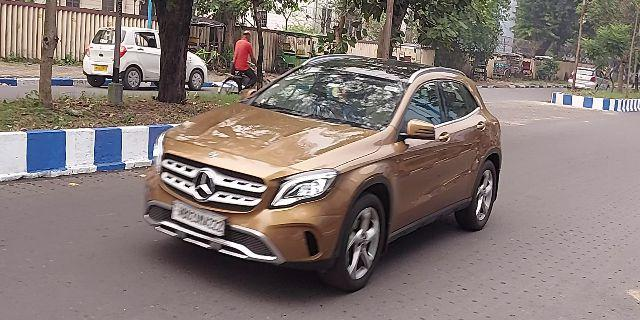Car: (152, 53, 504, 273)
